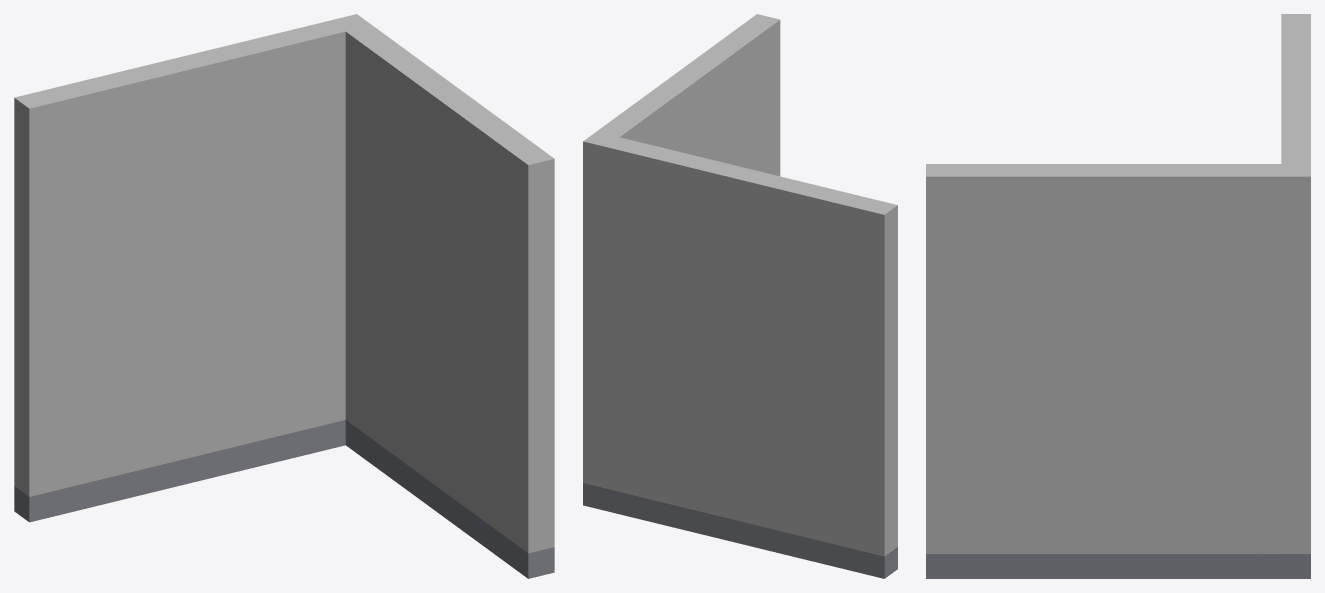
Rendered from Wall_Corner.fbx.
The picture shows the model from 3 angles, left to right: view 1: azimuth 30°, elevation 25°; view 2: azimuth 150°, elevation 25°; view 3: azimuth 270°, elevation 25°; orthographic projection. The views are drawn at different scales.
Visible parts, largest first — view 1: Wall_Corner; view 2: Wall_Corner; view 3: Wall_Corner.
Boxes of the visible parts, <box> form: Wall_Corner: <box>14,14,554,578</box>; Wall_Corner: <box>583,14,897,578</box>; Wall_Corner: <box>926,14,1310,578</box>.
Bounding box in the file's own units: 2.6 × 3 × 2.6.
